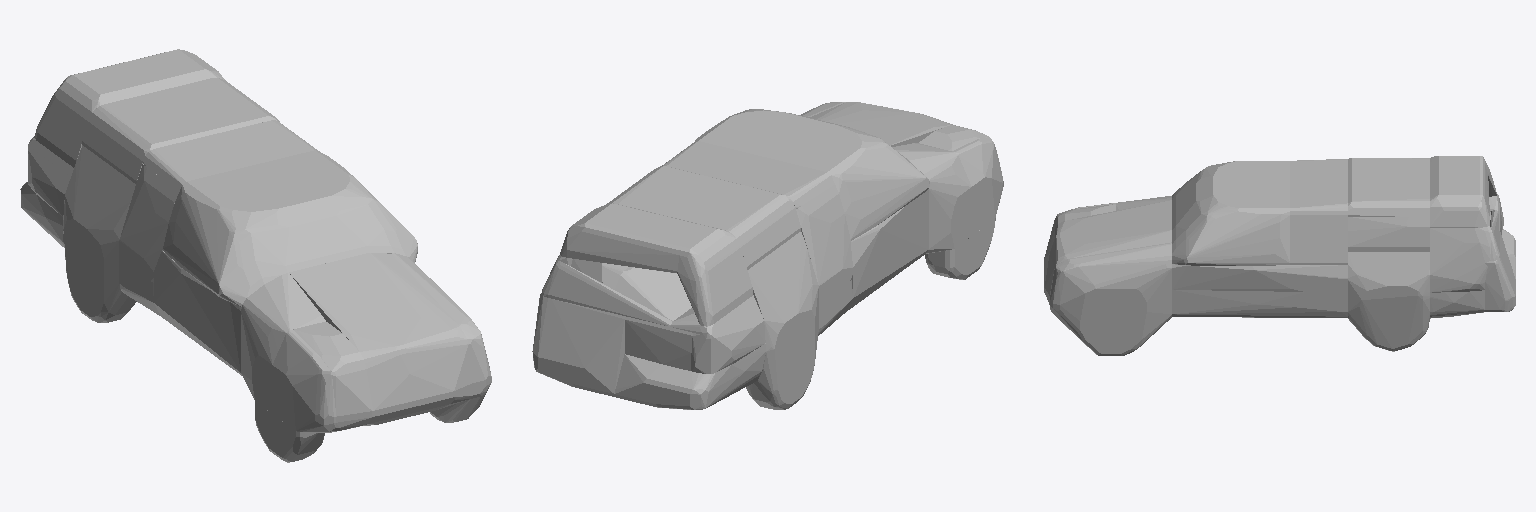
robot.urdf — root:
<robot name="root">
  <link name="link_001">
    <visual>
      <origin xyz="0 0 0" rpy="0 0 0"/>
      <geometry>
        <mesh filename="decomposed_012.obj" scale="1.0000E+00 1.0000E+00 1.0000E+00"/>
      </geometry>
      <material name="">
        <color rgba="7.50E-01 7.50E-01 7.50E-01 1"/>
      </material>
    </visual>
    <collision>
      <origin xyz="0 0 0" rpy="0 0 0"/>
      <geometry>
        <mesh filename="decomposed_012.obj" scale="1.0000E+00 1.0000E+00 1.0000E+00"/>
      </geometry>
    </collision>
  </link>
</robot>

--- Render facts (derived) ---
The picture shows the robot from 3 angles, left to right: view 1: azimuth 30°, elevation 25°; view 2: azimuth 150°, elevation 25°; view 3: azimuth 270°, elevation 25°; orthographic projection.
Robot: root — 1 links, 0 joints (none); root link link_001; default pose: every joint at zero.
Links seen in each view (by area): view 1: link_001; view 2: link_001; view 3: link_001.
Link boxes in pixels (box(x1,y1,x2,y2)): link_001: box(20, 49, 491, 462); link_001: box(532, 102, 1003, 409); link_001: box(1044, 156, 1515, 355).
Size in the robot's own frame: 0.083 by 0.2247 by 0.0782 metres.
Meshes: 1 distinct files referenced, 1 mesh visuals loaded (1 OBJ).